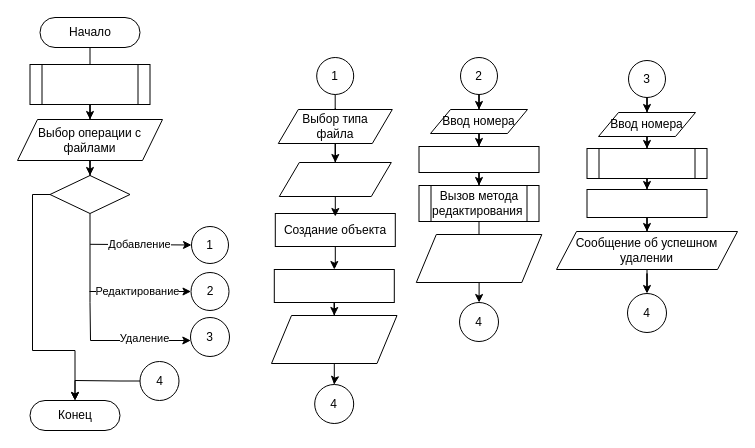
Image size: 755x448. Some labels were removed from this diagram. The centre of each missing label's shape, as x and y in pixels:
Ввод данных файла: point 334,179
Вывод файлов продавца: point 89,84
Добавление файла в список: point 333,285
Операция: point 89,194
Получение файла: point 478,159
Проверка удаления: point 646,203
Сообщение об успешном добавлении: point 333,339
Сообщение об успешном редактировании: point 478,258
Удаление файла: point 646,163
